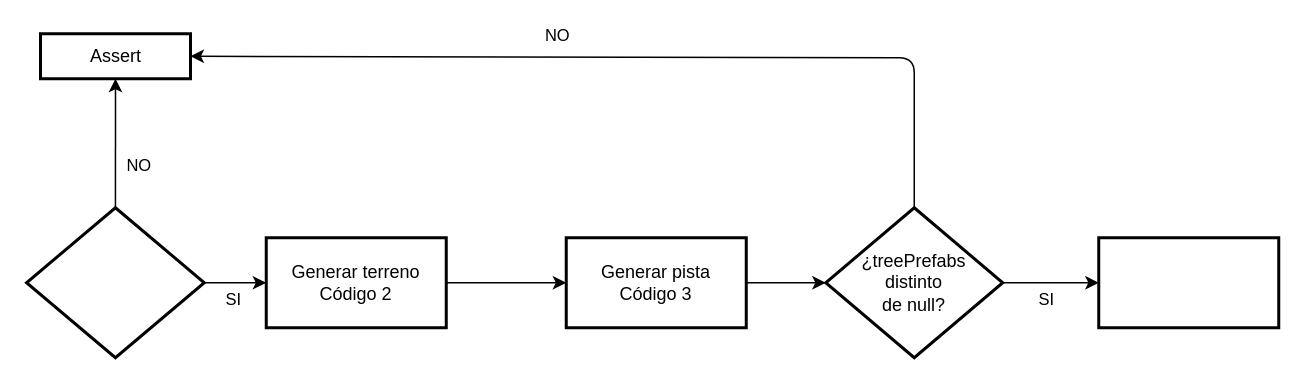
This 1307x386 diagram has some shape labels left out. The shapes that lost their labels are listed below. From the top down, each one's centre as x and y in pixels, then its label:
pixel 114 282: ¿trackPrefab distinto de null?
pixel 1188 282: Posicionar árboles Código 4
